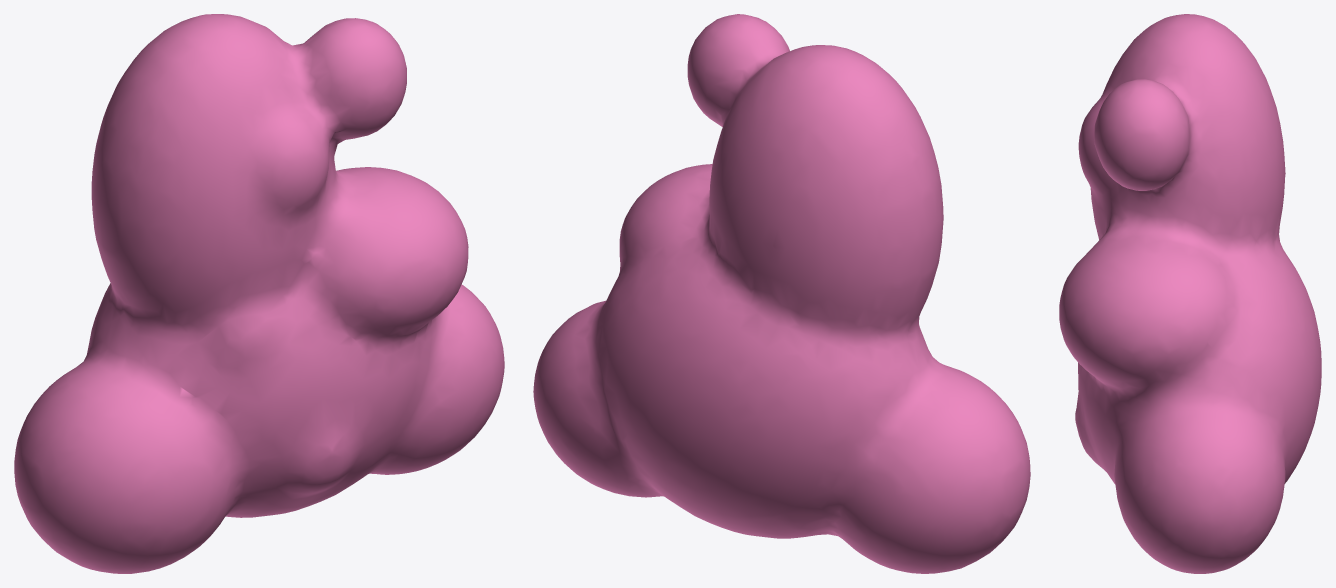
Rendered from pink-soft-blob.glb.
3 renders of one model, left to right at view 1: azimuth 30°, elevation 25°; view 2: azimuth 150°, elevation 25°; view 3: azimuth 270°, elevation 25°, orthographic. The views are drawn at different scales.
Visible parts, largest first — view 1: pink-soft-blob; view 2: pink-soft-blob; view 3: pink-soft-blob.
Part boxes in pixels (<box>): pink-soft-blob: <box>14,14,504,573</box>; pink-soft-blob: <box>533,14,1030,573</box>; pink-soft-blob: <box>1059,14,1321,573</box>.
Size of the model in its own units: 1.95 by 2 by 1.
